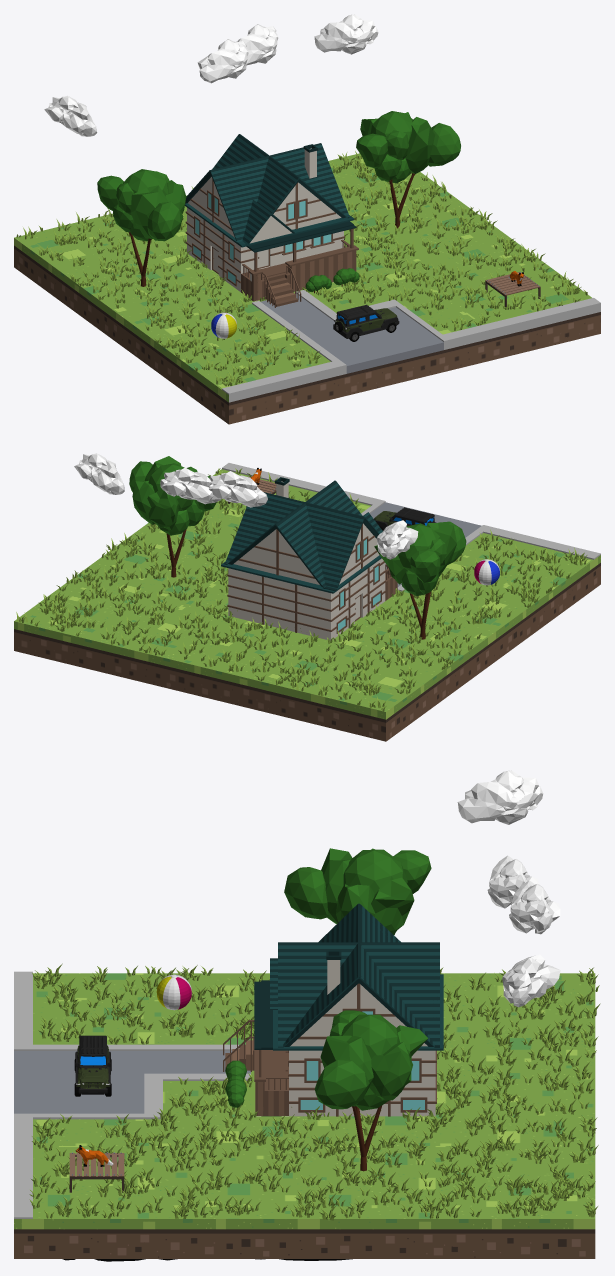
3 renders of one model, top to bottom at view 1: azimuth 30°, elevation 25°; view 2: azimuth 150°, elevation 25°; view 3: azimuth 270°, elevation 25°, orthographic. The views are drawn at different scales.
Visible parts, largest first — view 1: Cube.006, Cube.793, Circle.012_Grass_0.192, Cube.007, tree, tree.001, VEHICLES_JEEP, Cube.009, OBJRANDOM_BEACHBALL; view 2: Cube.006, Cube.793, Circle.012_Grass_0.192, Cube.007, tree.001, tree, VEHICLES_JEEP, OBJRANDOM_BEACHBALL; view 3: Cube.006, Circle.012_Grass_0.192, Cube.793, tree, Cube.007, tree.001, VEHICLES_JEEP, Cube.009, OBJRANDOM_BEACHBALL.
Part boxes in pixels (bbox=[...]): Cube.006: bbox=[14, 153, 600, 424]; Cube.793: bbox=[185, 134, 358, 307]; Circle.012_Grass_0.192: bbox=[16, 151, 587, 386]; Cube.007: bbox=[44, 14, 378, 136]; tree: bbox=[356, 111, 460, 228]; tree.001: bbox=[97, 169, 186, 286]; VEHICLES_JEEP: bbox=[333, 304, 399, 341]; Cube.009: bbox=[485, 272, 540, 306]; OBJRANDOM_BEACHBALL: bbox=[211, 312, 236, 338]; Cube.006: bbox=[14, 463, 600, 741]; Cube.793: bbox=[221, 477, 397, 640]; Circle.012_Grass_0.192: bbox=[16, 468, 587, 711]; Cube.007: bbox=[74, 453, 418, 559]; tree.001: bbox=[374, 521, 466, 639]; tree: bbox=[129, 456, 216, 577]; VEHICLES_JEEP: bbox=[374, 507, 436, 530]; OBJRANDOM_BEACHBALL: bbox=[474, 559, 499, 585]; Cube.006: bbox=[14, 971, 595, 1258]; Circle.012_Grass_0.192: bbox=[29, 963, 600, 1220]; Cube.793: bbox=[223, 903, 443, 1116]; tree: bbox=[314, 1010, 427, 1171]; Cube.007: bbox=[457, 770, 560, 1007]; tree.001: bbox=[284, 848, 431, 935]; VEHICLES_JEEP: bbox=[74, 1035, 111, 1096]; Cube.009: bbox=[69, 1152, 124, 1192]; OBJRANDOM_BEACHBALL: bbox=[156, 974, 191, 1010].
Bounding box in the file's own units: 4071 × 2149 × 4040.
29 materials, 4 textured.
